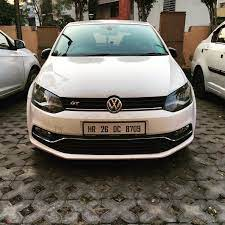number_plates: (84, 122, 146, 134)
